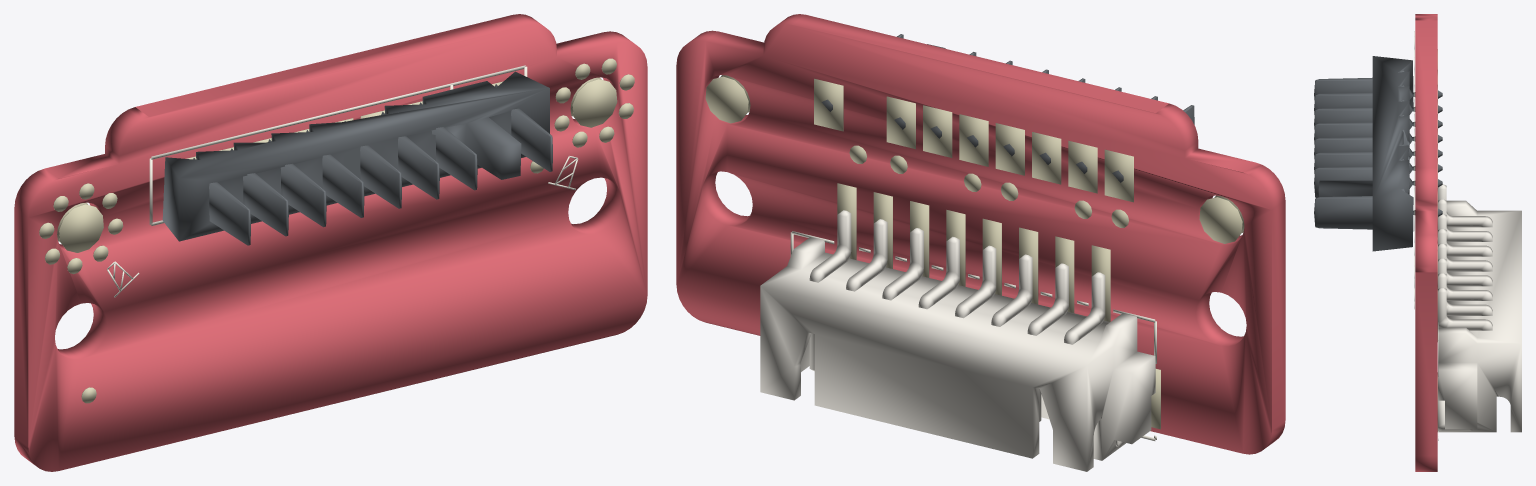
File: pcb-conn-bat.glb
3 views of the same model, side by side, from view 1: azimuth 30°, elevation 25°; view 2: azimuth 150°, elevation 25°; view 3: azimuth 270°, elevation 25° (orthographic). The views are drawn at different scales.
Parts seen in each view (by area): view 1: pcb, body, pads, silk; view 2: pcb, plastic, pads, body, silk; view 3: plastic, body, pcb, pads.
Boxes of the visible parts, left/top/right/bottom form: pcb: left=14, top=14, right=647, bottom=471; body: left=162, top=71, right=552, bottom=245; pads: left=39, top=58, right=634, bottom=403; silk: left=107, top=65, right=578, bottom=297; pcb: left=676, top=14, right=1285, bottom=454; plastic: left=760, top=210, right=1155, bottom=471; pads: left=705, top=75, right=1244, bottom=429; body: left=821, top=34, right=1194, bottom=182; silk: left=790, top=231, right=1156, bottom=440; plastic: left=1438, top=184, right=1521, bottom=432; body: left=1314, top=56, right=1442, bottom=251; pcb: left=1415, top=14, right=1437, bottom=471; pads: left=1414, top=31, right=1437, bottom=431.
Bounding box in the file's own units: 41 × 21.55 × 14.88.
